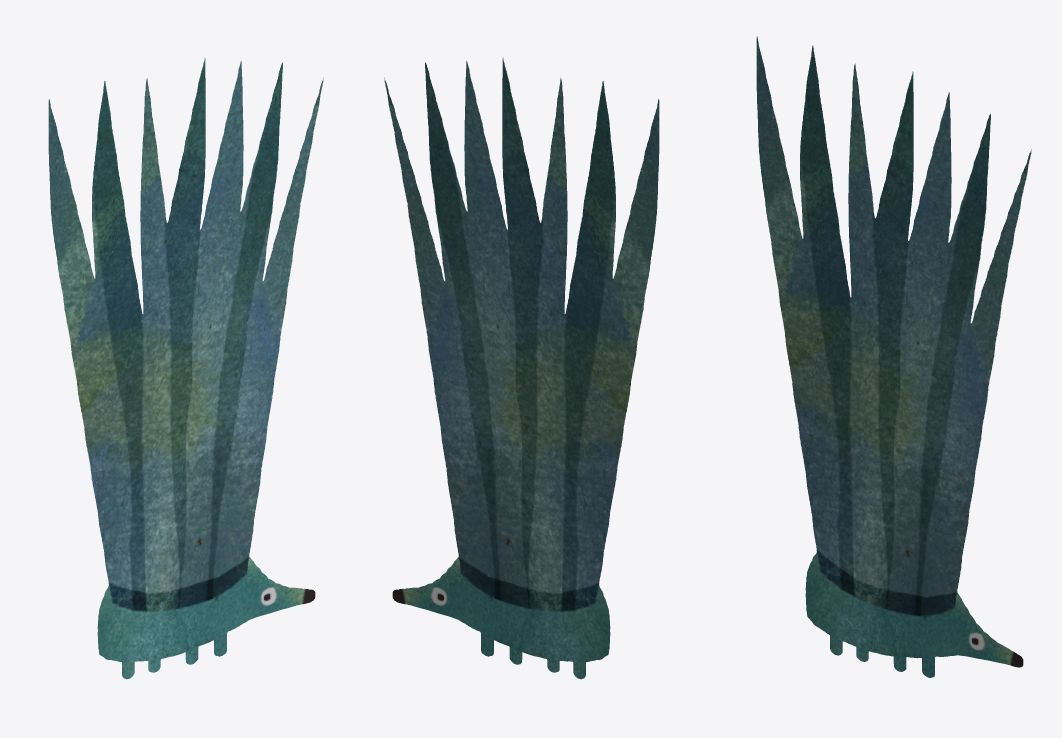
The model's file is Erisso_01.fbx.
3 views of the same model, side by side, from view 1: azimuth 30°, elevation 25°; view 2: azimuth 150°, elevation 25°; view 3: azimuth 330°, elevation 25° (orthographic).
Visible parts, largest first — view 1: Erisso_01; view 2: Erisso_01; view 3: Erisso_01.
Part boxes in pixels (box(x1,y1,x2,y2)): Erisso_01: box(48, 58, 323, 679); Erisso_01: box(384, 58, 659, 679); Erisso_01: box(756, 36, 1031, 677).
Bounding box in the file's own units: 701 × 1296 × 6.1e-05.
